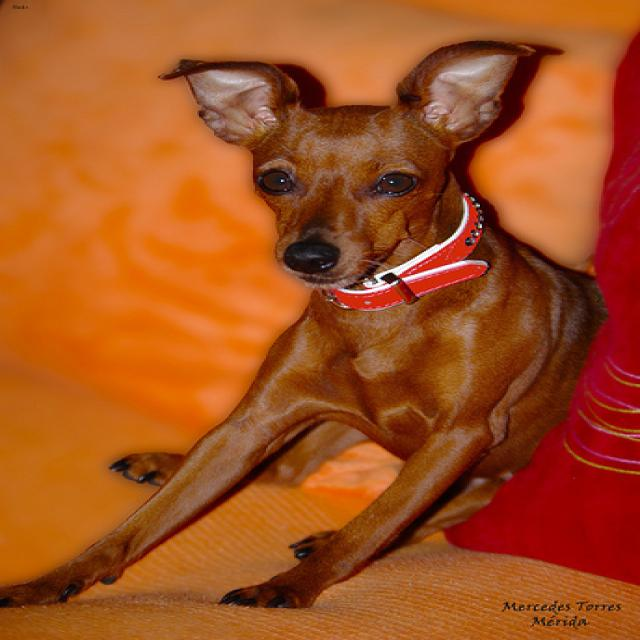dog-miniature_pinscher: (2, 32, 618, 618)
